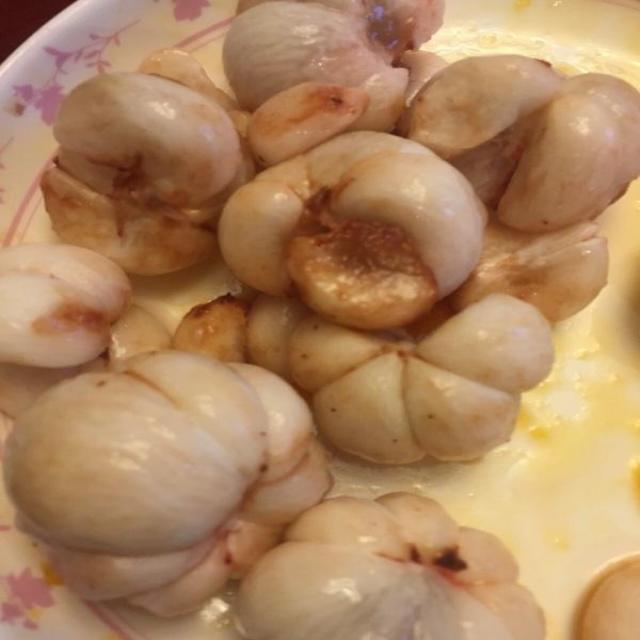Wet Waste: (2, 2, 639, 639)
